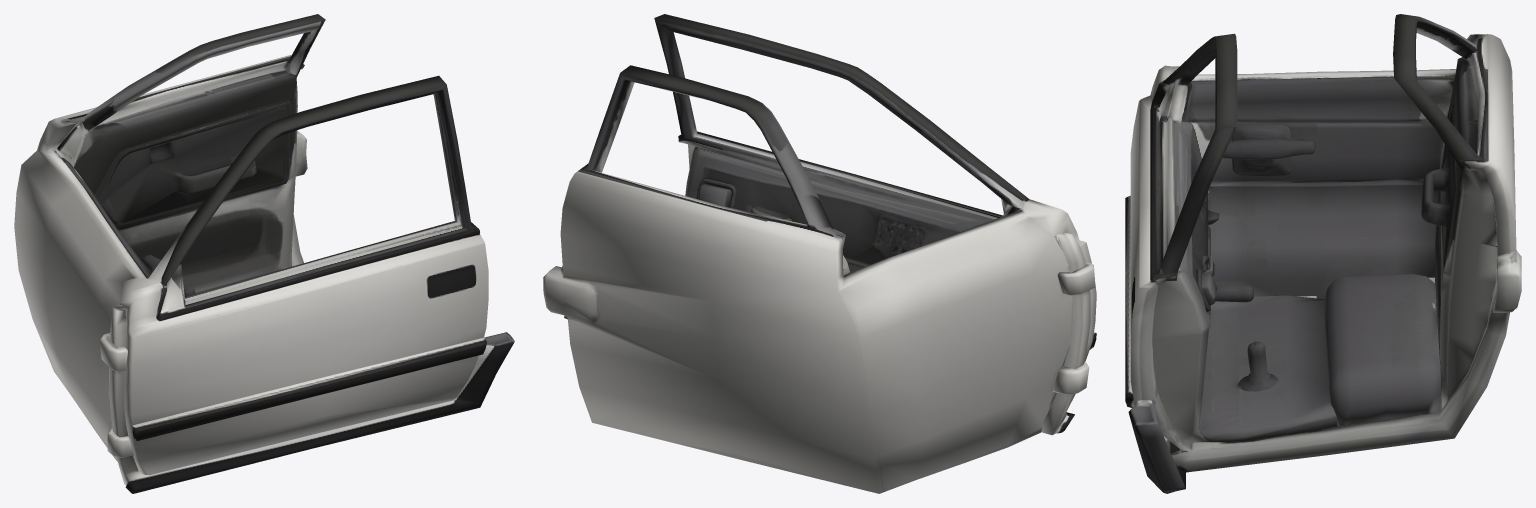
Rendered from original_glb.glb.
3 views of the same model, side by side, from view 1: azimuth 30°, elevation 25°; view 2: azimuth 150°, elevation 25°; view 3: azimuth 270°, elevation 25° (orthographic). The views are drawn at different scales.
Parts seen in each view (by area): view 1: left front door; view 2: left front door; view 3: left front door.
Boxes of the visible parts, <box> form: left front door: <box>14,14,514,493</box>; left front door: <box>543,14,1096,493</box>; left front door: <box>1125,14,1521,493</box>.
Size of the model in its own units: 0.998 by 0.7949 by 0.7402.
1 material, 1 textured.
